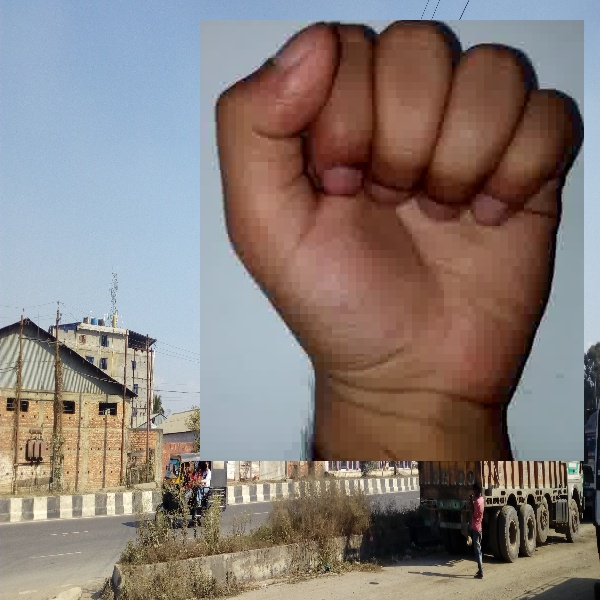A: (200, 20, 584, 461)
